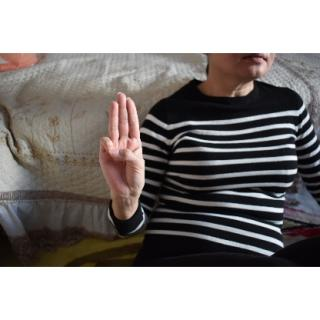THA: (96, 90, 150, 212)
